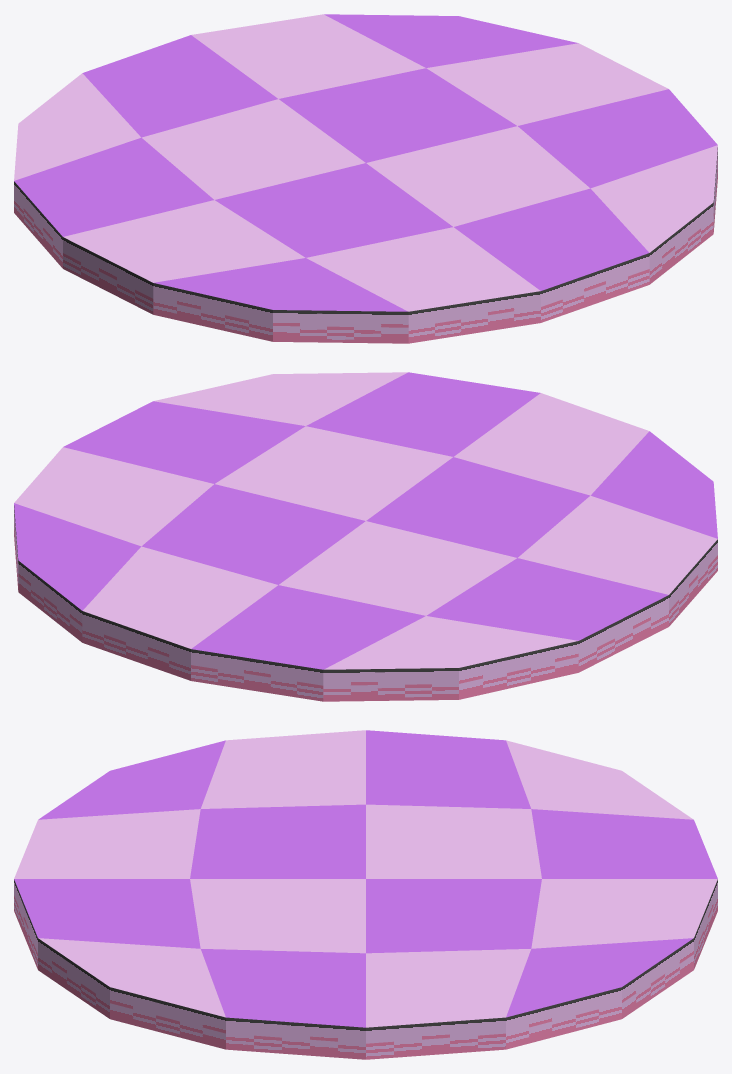
Rendered from rotating_plat_norm.glb.
3 renders of one model, top to bottom at view 1: azimuth 30°, elevation 25°; view 2: azimuth 150°, elevation 25°; view 3: azimuth 270°, elevation 25°, orthographic.
Visible parts, largest first — view 1: Halfcube 2; view 2: Halfcube 2; view 3: Halfcube 2.
Part boxes in pixels (x1,y1,x2,y2): Halfcube 2: (14, 14, 717, 343); Halfcube 2: (14, 372, 717, 701); Halfcube 2: (14, 730, 717, 1059).
Size of the model in its own units: 19.88 by 1 by 19.88.
1 material, 1 textured.
